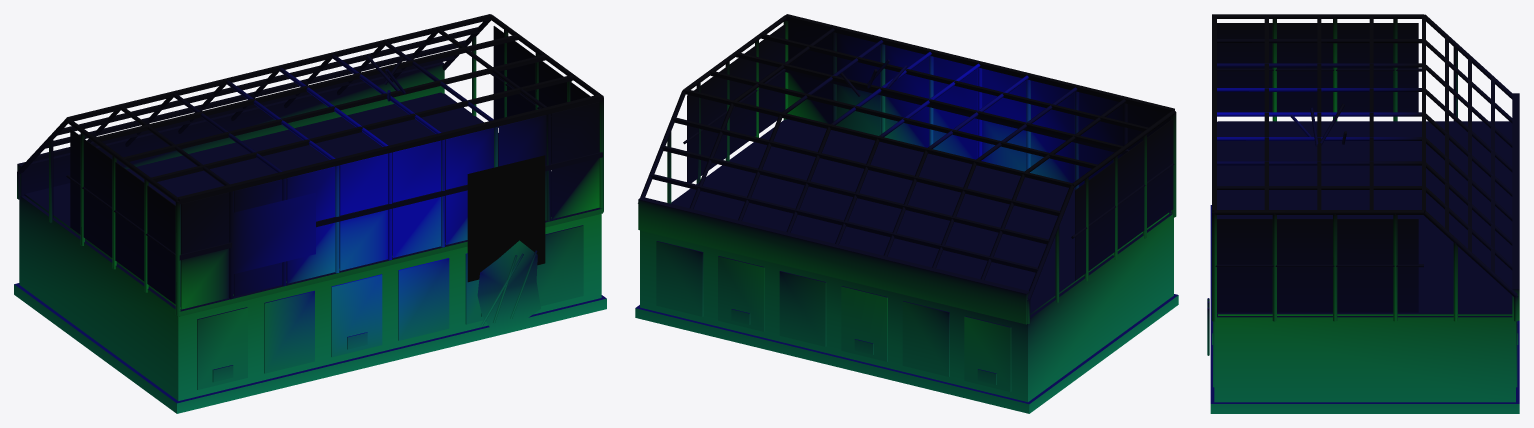
The model's file is lobby_damaged.glb.
3 views of the same model, side by side, from view 1: azimuth 30°, elevation 25°; view 2: azimuth 150°, elevation 25°; view 3: azimuth 270°, elevation 25° (orthographic). The views are drawn at different scales.
Parts seen in each view (by area): view 1: lod0; view 2: lod0; view 3: lod0.
Part boxes in pixels (x1=…): lod0: x1=14, y1=14, x2=606, y2=413; lod0: x1=635, y1=14, x2=1178, y2=413; lod0: x1=1207, y1=14, x2=1519, y2=413.
Size of what is drawn, in the model's own units: 25.6 by 13.92 by 16.99.
